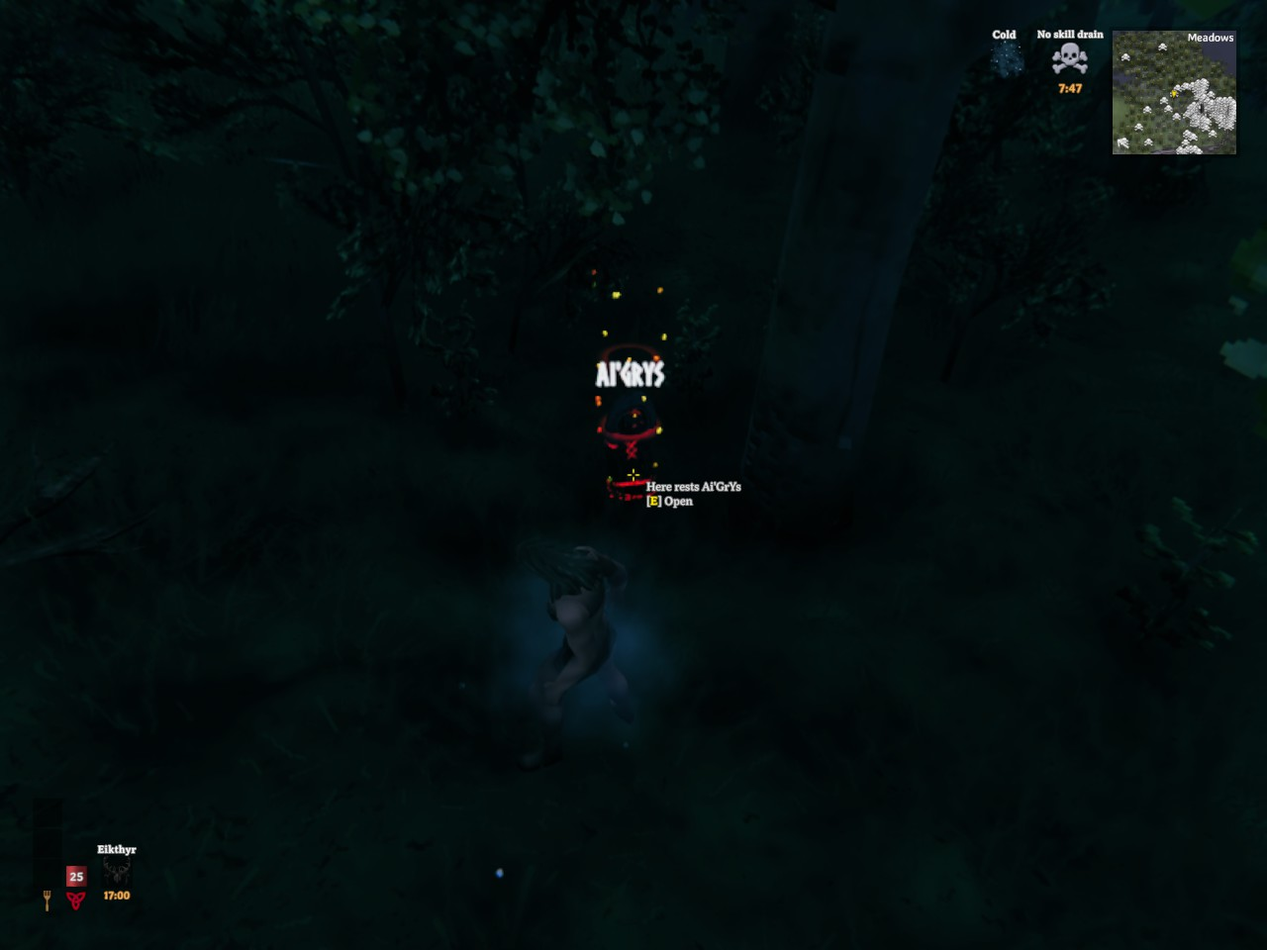Gravestone: (599, 391, 661, 501)
